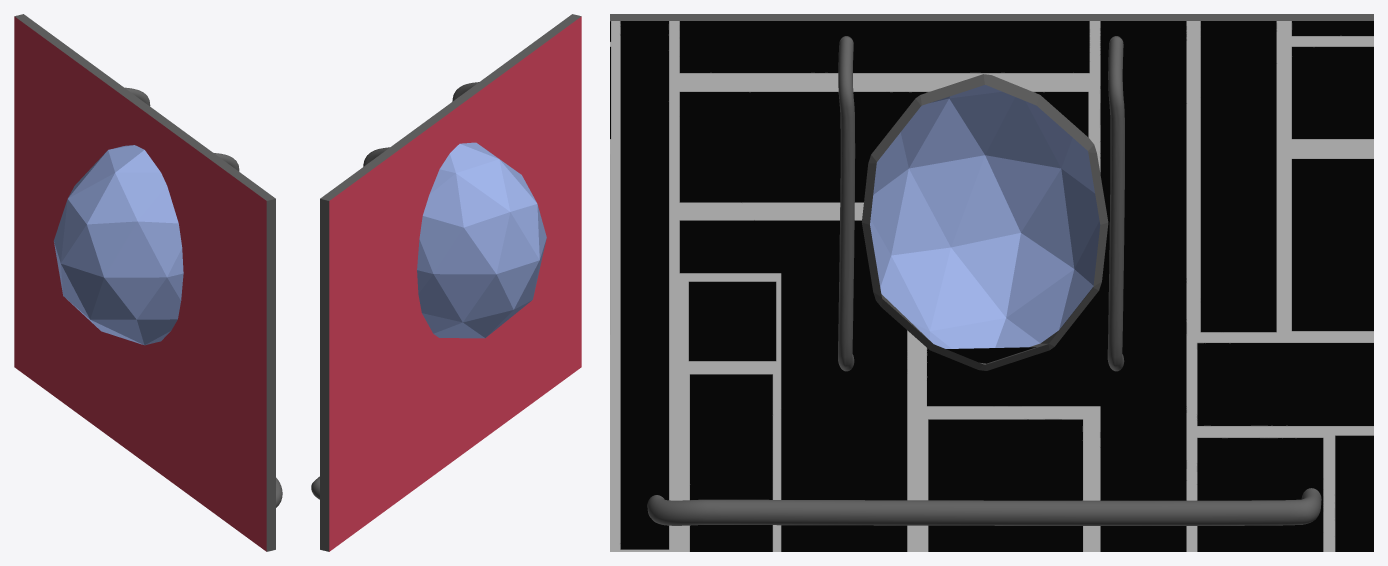
The model's file is baseCabinWall2.fbx.
3 renders of one model, left to right at view 1: azimuth 30°, elevation 25°; view 2: azimuth 150°, elevation 25°; view 3: azimuth 270°, elevation 25°, orthographic. The views are drawn at different scales.
Parts seen in each view (by area): view 1: Cube.015; view 2: Cube.015; view 3: Cube.015.
Part boxes in pixels (bbox=[...]): Cube.015: bbox=[14, 14, 282, 551]; Cube.015: bbox=[311, 14, 581, 551]; Cube.015: bbox=[610, 14, 1373, 551].
Bounding box in the file's own units: 940 × 2380 × 3102.
Materials: 4 (1 with a texture image).
